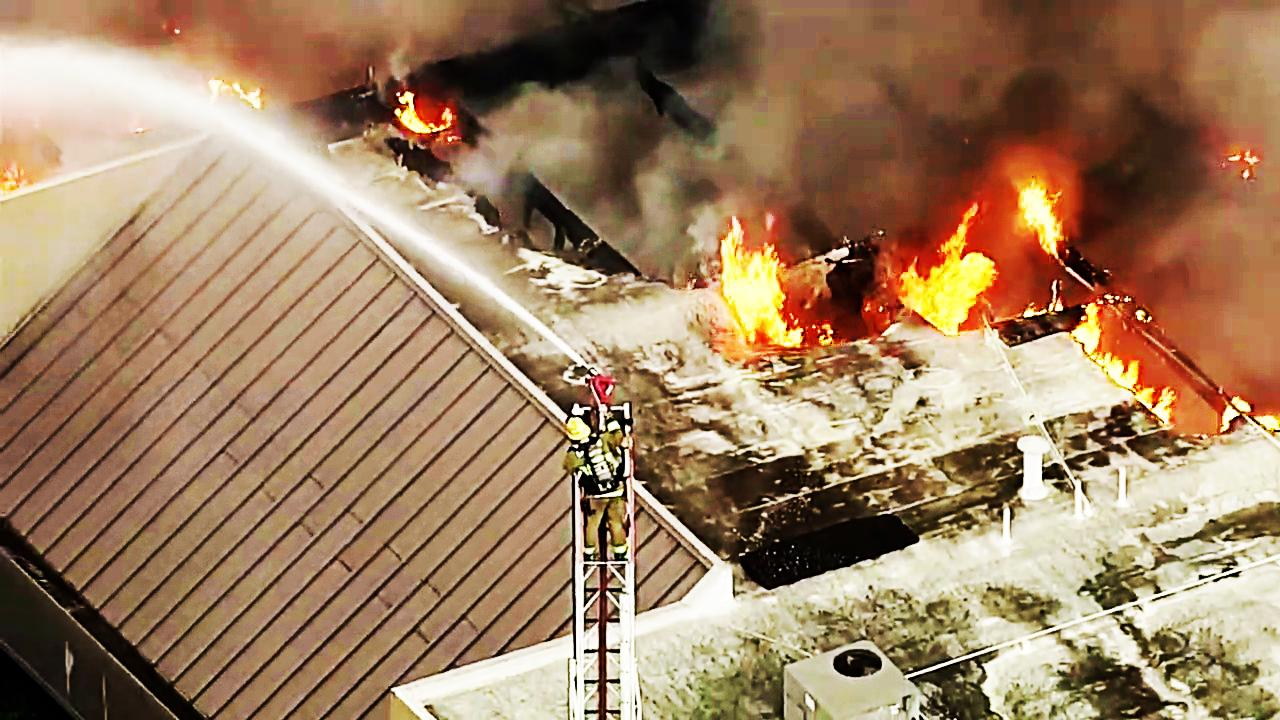fire: (697, 222, 801, 352), (901, 219, 1004, 346)
smoke: (515, 0, 1090, 150)
